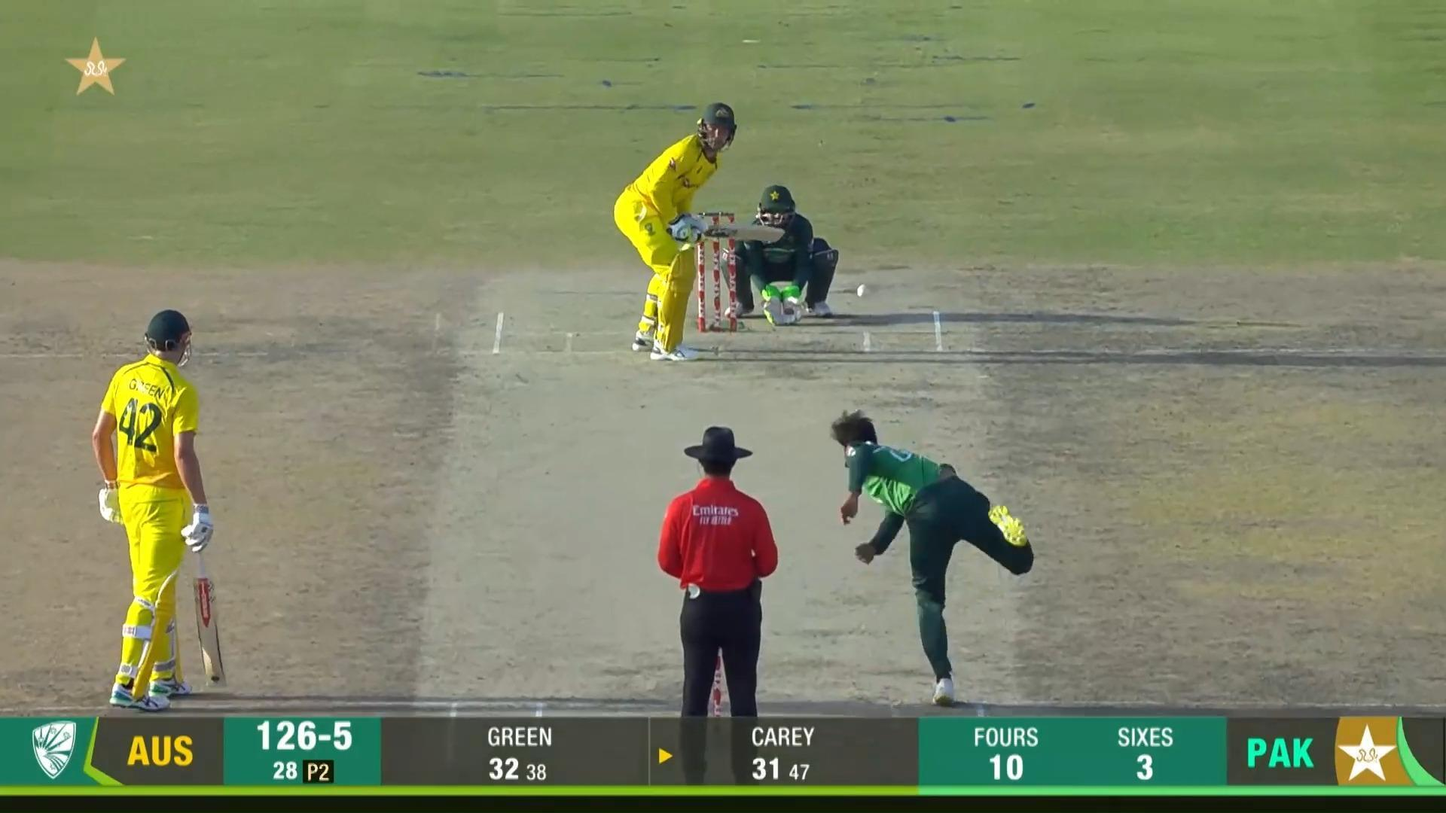BM 1: (612, 100, 789, 363)
BO: (828, 407, 1036, 709)
